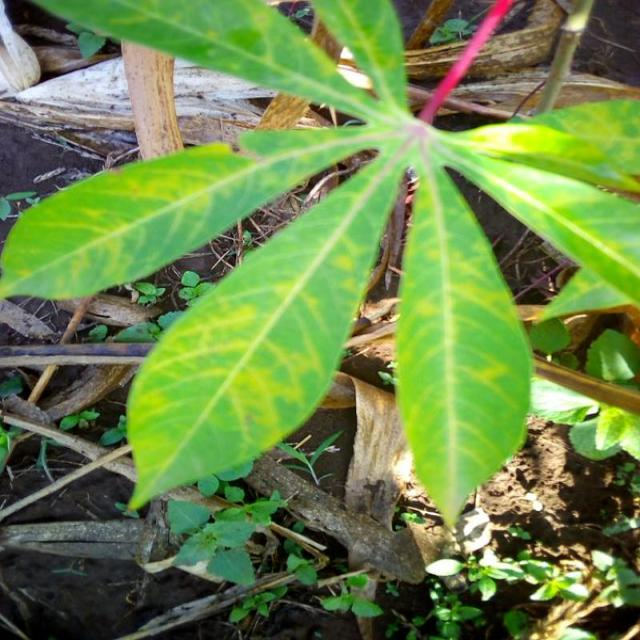cassava leaf: (1, 0, 638, 530), (123, 145, 404, 513), (0, 123, 372, 302), (394, 149, 534, 532)
